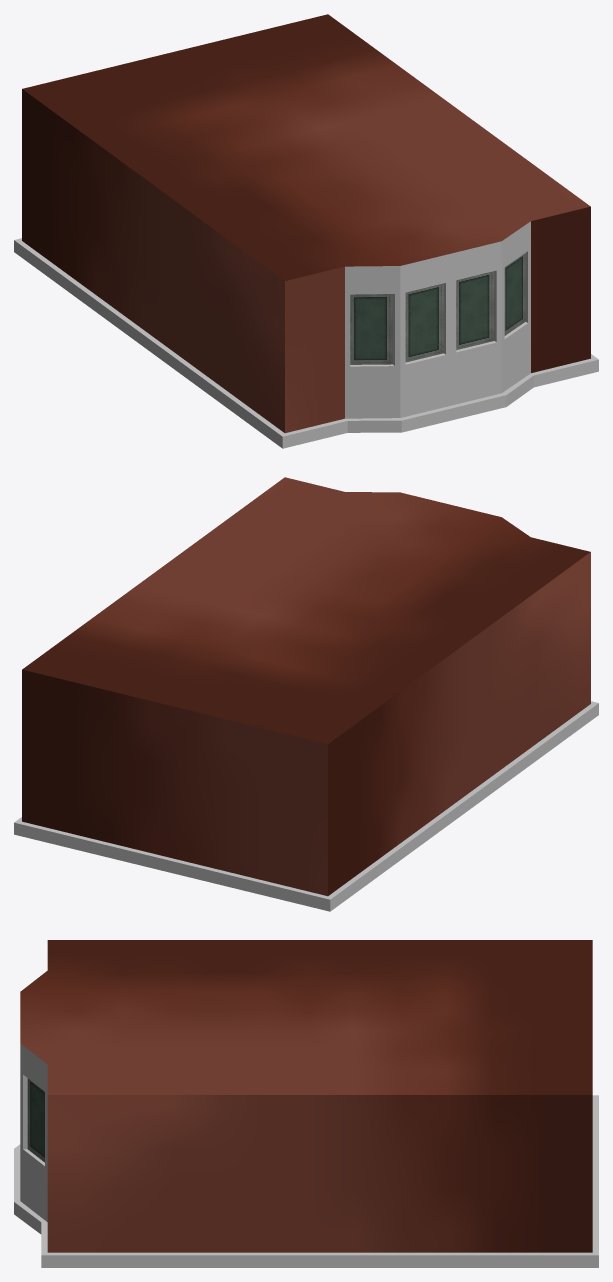
File: BuildingStoredoorMid.fbx
3 renders of one model, top to bottom at view 1: azimuth 30°, elevation 25°; view 2: azimuth 150°, elevation 25°; view 3: azimuth 270°, elevation 25°, orthographic. The views are drawn at different scales.
Parts seen in each view (by area): view 1: BuildingStoredoorMid; view 2: BuildingStoredoorMid; view 3: BuildingStoredoorMid.
Boxes of the visible parts, left/top/right/bottom form: BuildingStoredoorMid: left=14, top=14, right=598, bottom=448; BuildingStoredoorMid: left=14, top=477, right=598, bottom=911; BuildingStoredoorMid: left=14, top=940, right=598, bottom=1267.
Bounding box in the file's own units: 827 × 410 × 1277.
